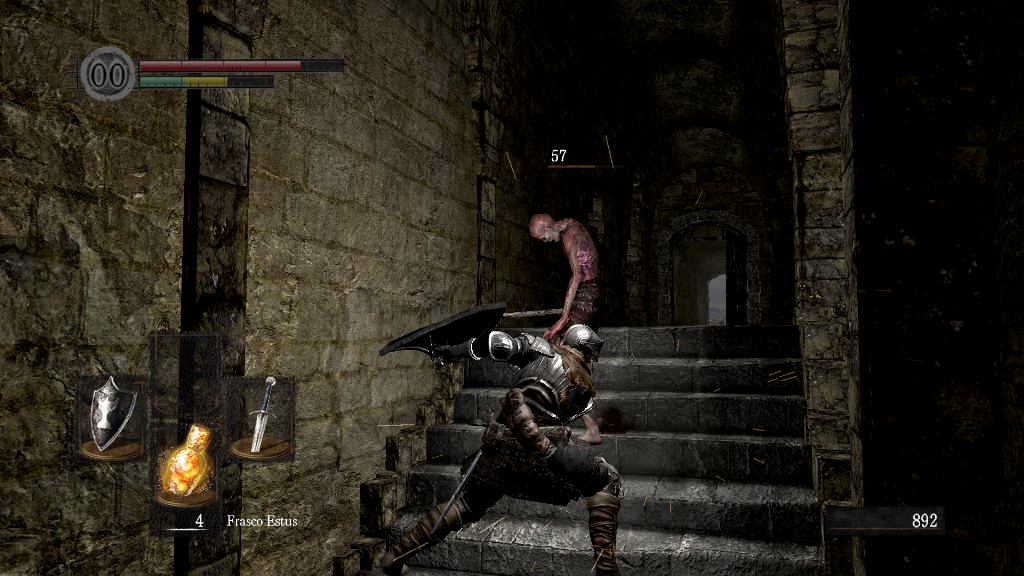health: (138, 58, 343, 71)
hollow: (521, 209, 606, 446)
humanity: (80, 45, 136, 102)
player: (380, 301, 623, 576)
souls: (825, 506, 945, 536)
stamina: (138, 74, 274, 88)
